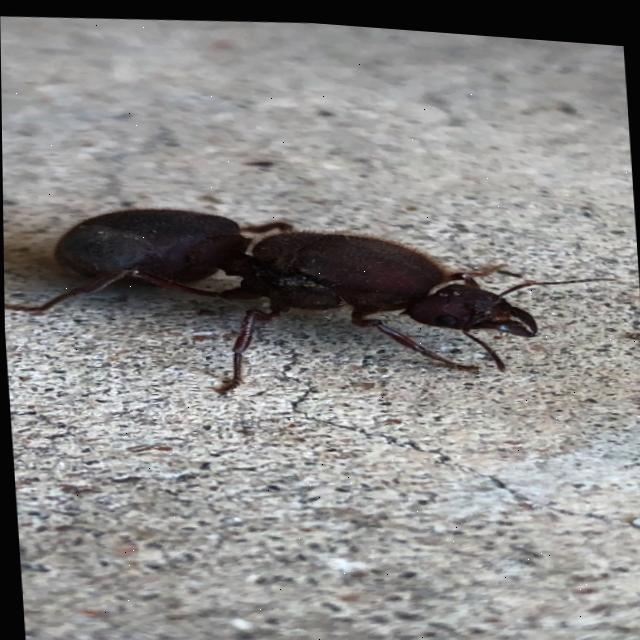Alive-Female-Dealate: (2, 173, 625, 425)
